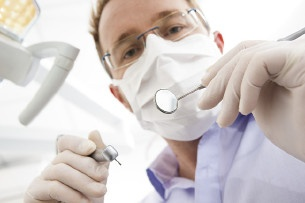Mask: (104, 9, 230, 137)
